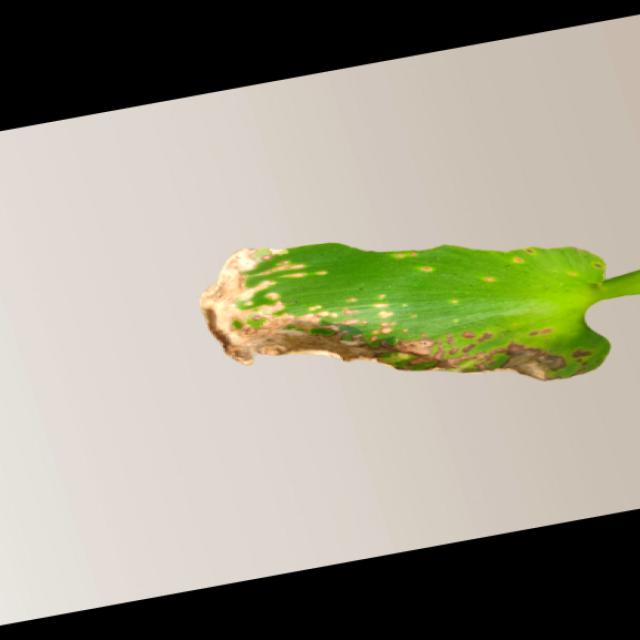daun berpenyakit bercak: (200, 244, 638, 380)
